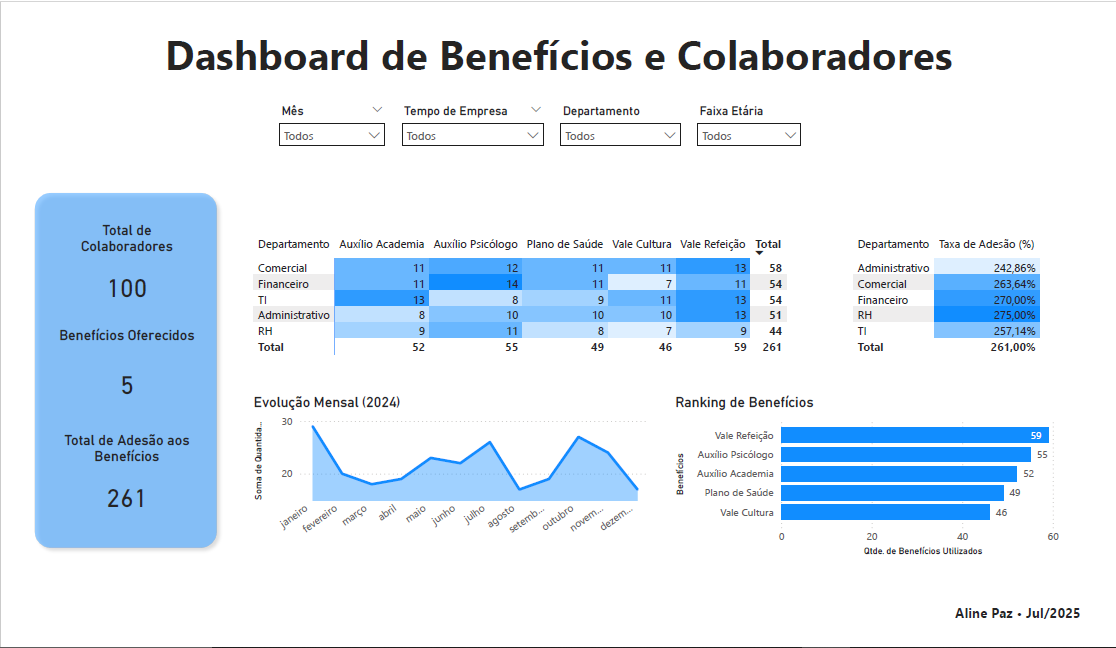

The dashboard page shown, as its layout file describes it:
{"tool":"powerbi","page":{"name":"Página 1","canvas":[1280,720],"ordinal":0},"visuals":[{"type":"slicer","fields":{"Values":["colaboradores_anonimizados.Departamento"]},"box":[631.6,92.4,162.9,75.6],"z":0},{"type":"shape","box":[8.4,194.9,233.5,440.1],"z":0},{"type":"slicer","fields":{"Values":["colaboradores_anonimizados.Faixa_Etaria"]},"box":[794.5,92.4,144.5,75.6],"z":1000},{"type":"card","title":"Total de Colaboradores","fields":{"Values":["CountNonNull(colaboradores_anonimizados.ID_Colaborador)"]},"box":[36.1,236.9,179.7,117.6],"z":1000},{"type":"slicer","fields":{"Values":["colaboradores_anonimizados.Tempo_Empresa"]},"box":[443.5,92.4,188.1,75.6],"z":2000},{"type":"pivotTable","fields":{"Rows":["colaboradores_anonimizados.Departamento"],"Columns":["uso_beneficios_anonimizados.Benefício_Utilizado"],"Values":["CountNonNull(uso_beneficios_anonimizados.Benefício_Utilizado)"]},"box":[272.1,248.6,658.5,156.2],"z":2000},{"type":"slicer","fields":{"Values":["evolucao_mensal_beneficios.Data_Adesão.Variation.Hierarquia de datas.Mês"]},"box":[297.3,92.4,146.1,75.6],"z":3000},{"type":"card","title":"Benefícios Oferecidos","fields":{"Values":["Count(uso_beneficios_anonimizados.Benefício_Utilizado)"]},"box":[8.4,362,235.2,117.6],"z":3000},{"type":"lineChart","title":"Evolução Mensal (2024)","fields":{"Category":["evolucao_mensal_beneficios.Data_Adesão.Variation.Hierarquia de datas.Mês"],"Y":["Sum(evolucao_mensal_beneficios.Quantidade)"]},"box":[272.1,441.8,480.4,198.2],"z":4000},{"type":"card","title":"Total de Adesão aos Benefícios","fields":{"Values":["CountNonNull(uso_beneficios_anonimizados.Benefício_Utilizado)"]},"box":[8.4,487.1,235.2,117.6],"z":5000},{"type":"barChart","title":"Ranking de Benefícios","fields":{"Category":["uso_beneficios_anonimizados.Benefício_Utilizado"],"Y":["CountNonNull(uso_beneficios_anonimizados.Benefício_Utilizado)"]},"box":[774.4,441.8,480.4,198.2],"z":6000},{"type":"textbox","box":[0,0,1280,77.3],"z":7000},{"type":"textbox","box":[1107,687,173,33.6],"z":9000},{"type":"pivotTable","fields":{"Rows":["colaboradores_anonimizados.Departamento"],"Values":["colaboradores_anonimizados.Taxa de Adesão (%)"]},"box":[986,248.6,240.2,166.3],"z":10000}]}

Visuals, with their boxes on the page's 1280x720 design canvas (x1, y1, x2, y2). These are canvas units, not pixel positions in the 1116x648 screenshot, which may show the page scaled, cropped or inside an application window:
slicer - colaboradores_anonimizados.Departamento: locate(632, 92, 794, 168)
shape: locate(8, 195, 242, 635)
slicer - colaboradores_anonimizados.Faixa_Etaria: locate(794, 92, 939, 168)
"Total de Colaboradores" card: locate(36, 237, 216, 354)
slicer - colaboradores_anonimizados.Tempo_Empresa: locate(444, 92, 632, 168)
pivotTable - colaboradores_anonimizados.Departamento x uso_beneficios_anonimizados.Benefício_Utilizado: locate(272, 249, 931, 405)
slicer - evolucao_mensal_beneficios.Data_Adesão.Variation.Hierarquia de datas.Mês: locate(297, 92, 443, 168)
"Benefícios Oferecidos" card: locate(8, 362, 244, 480)
"Evolução Mensal (2024)" lineChart: locate(272, 442, 752, 640)
"Total de Adesão aos Benefícios" card: locate(8, 487, 244, 605)
"Ranking de Benefícios" barChart: locate(774, 442, 1255, 640)
textbox: locate(0, 0, 1280, 77)
textbox: locate(1107, 687, 1280, 721)
pivotTable - colaboradores_anonimizados.Departamento x colaboradores_anonimizados.Taxa de Adesão (%): locate(986, 249, 1226, 415)
